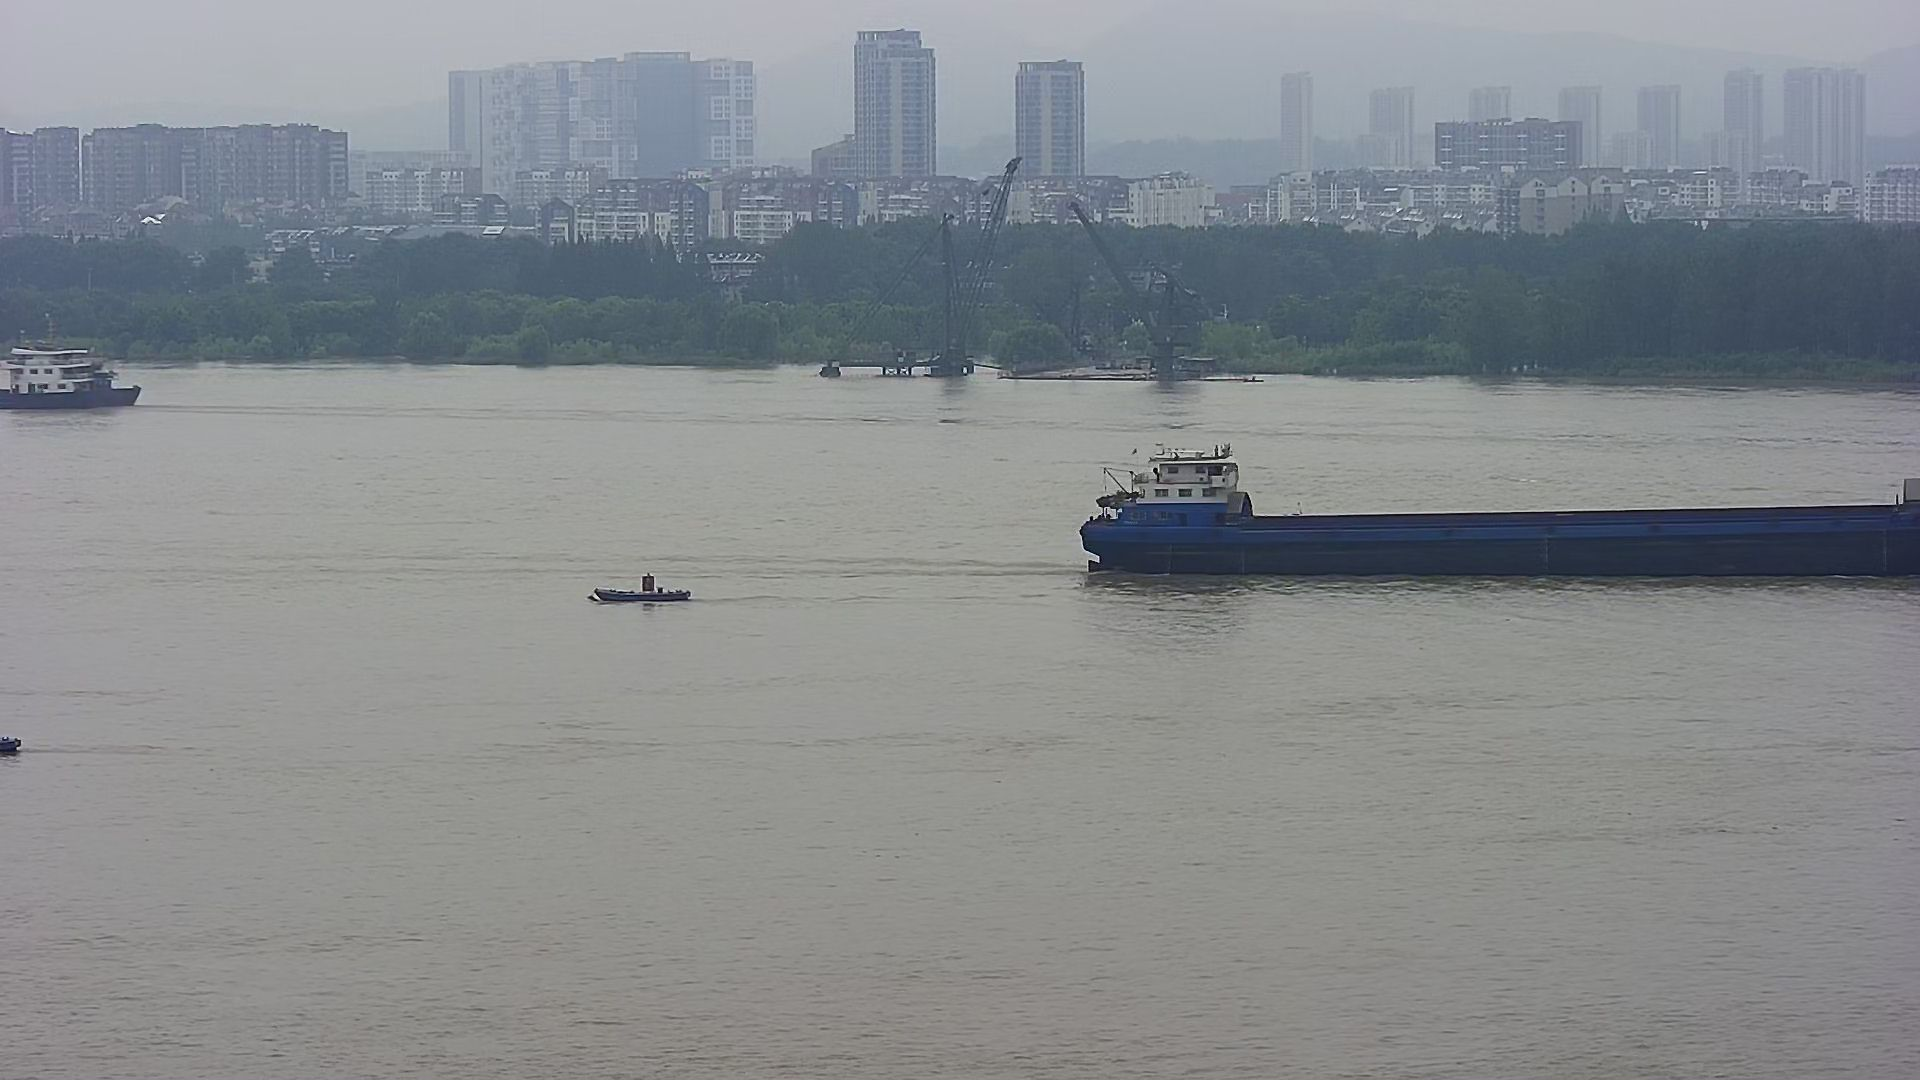boat: (592, 568, 692, 611), (1, 729, 18, 760)
harbor: (818, 345, 1262, 386)
ship: (1073, 438, 1920, 578), (3, 318, 138, 409)
